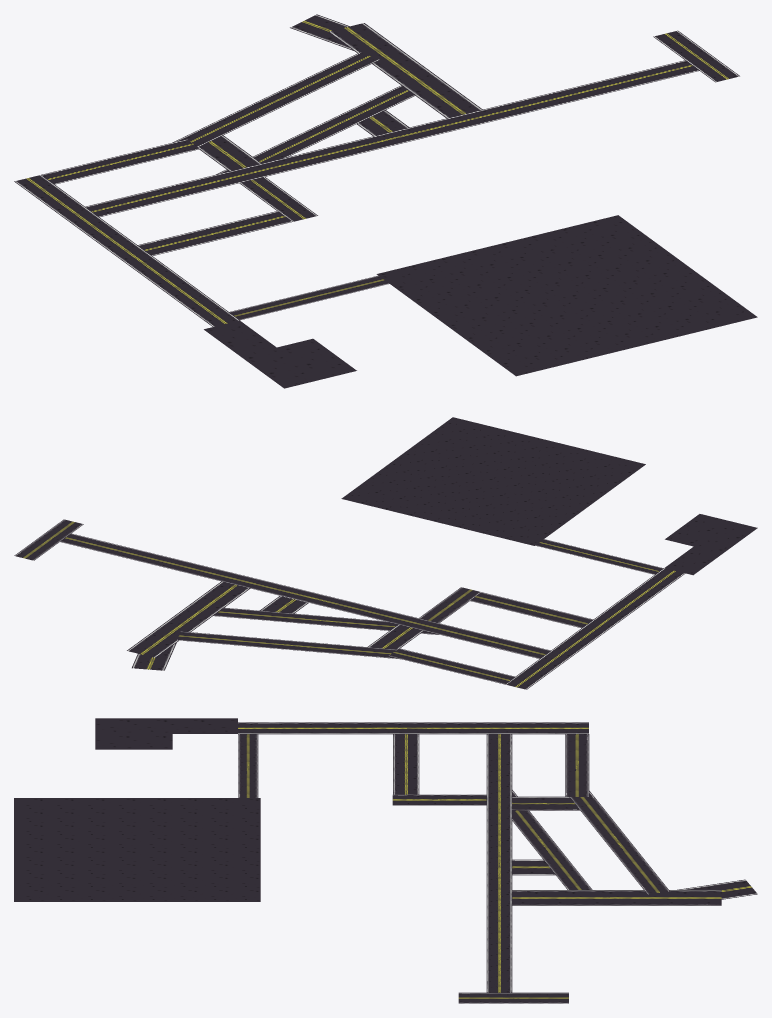
Rendered from Road_Connected.fbx.
3 renders of one model, top to bottom at view 1: azimuth 30°, elevation 25°; view 2: azimuth 150°, elevation 25°; view 3: azimuth 270°, elevation 25°, orthographic. The views are drawn at different scales.
Visible parts, largest first — view 1: Road___59_001; view 2: Road___59_001; view 3: Road___59_001.
Boxes of the visible parts, x1=… form: Road___59_001: x1=14, y1=14, x2=757, y2=388; Road___59_001: x1=14, y1=417, x2=757, y2=689; Road___59_001: x1=14, y1=718, x2=757, y2=1003.
Size of the model in its own units: 18157 by 40.39 by 20018.
